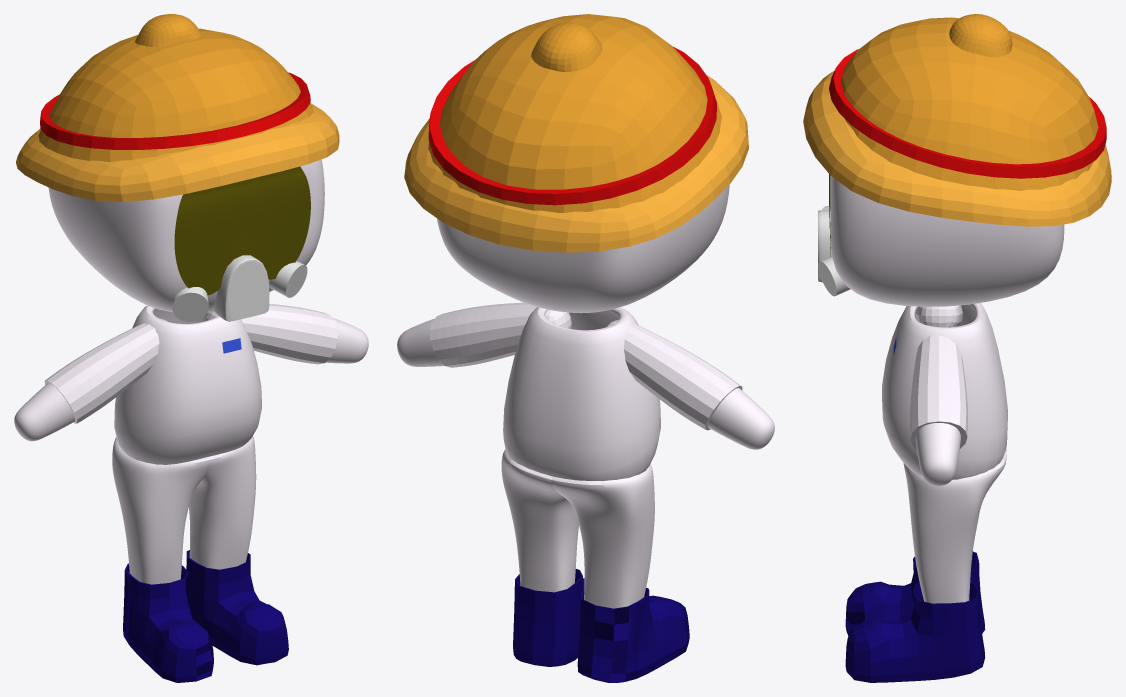
Rendered from trabalhado.fbx.
3 views of the same model, side by side, from view 1: azimuth 30°, elevation 25°; view 2: azimuth 150°, elevation 25°; view 3: azimuth 270°, elevation 25° (orthographic). The views are drawn at different scales.
Parts seen in each view (by area): view 1: Chapeu em cima.001, Corpo.006, Cube.013, Sapato.005, Chapeu lado.001, Cabeca.010, Cabeca.009, Jaqueta.007, Circle.001, Bracos.007, Cube.015, Cylinder.001 (+1 smaller); view 2: Chapeu em cima.001, Corpo.006, Cube.013, Chapeu lado.001, Cabeca.009, Sapato.005, Jaqueta.007, Circle.001, Bracos.007, Chapeu em cima.002; view 3: Chapeu em cima.001, Cabeca.009, Chapeu lado.001, Sapato.005, Corpo.006, Cube.013, Jaqueta.007, Circle.001, Bracos.007, Chapeu em cima.002, Cylinder.001, Cube.015.
Part boxes in pixels (x1,y1,x2,y2): Chapeu em cima.001: [38, 28, 313, 161]; Corpo.006: [114, 305, 261, 464]; Cube.013: [112, 436, 256, 584]; Sapato.005: [123, 550, 288, 682]; Chapeu lado.001: [16, 103, 339, 201]; Cabeca.010: [174, 166, 310, 295]; Cabeca.009: [48, 159, 324, 312]; Jaqueta.007: [44, 304, 338, 423]; Circle.001: [40, 72, 310, 149]; Bracos.007: [14, 318, 368, 441]; Cube.015: [212, 255, 269, 321]; Cylinder.001: [171, 261, 307, 321]; Chapeu em cima.001: [428, 14, 721, 212]; Corpo.006: [503, 307, 660, 481]; Cube.013: [501, 449, 654, 608]; Chapeu lado.001: [404, 75, 748, 252]; Cabeca.009: [437, 185, 729, 313]; Sapato.005: [513, 569, 689, 682]; Jaqueta.007: [429, 302, 742, 430]; Circle.001: [428, 47, 716, 205]; Bracos.007: [397, 318, 774, 449]; Chapeu em cima.002: [531, 22, 602, 71]; Chapeu em cima.001: [840, 17, 1098, 190]; Cabeca.009: [830, 175, 1064, 306]; Chapeu lado.001: [803, 71, 1111, 226]; Sapato.005: [845, 551, 985, 682]; Corpo.006: [882, 303, 1007, 479]; Cube.013: [903, 449, 1006, 603]; Jaqueta.007: [910, 305, 967, 449]; Circle.001: [829, 49, 1106, 178]; Bracos.007: [915, 423, 960, 486]; Chapeu em cima.002: [949, 14, 1012, 57]; Cylinder.001: [818, 206, 850, 296]; Cube.015: [818, 210, 832, 282].
Bounding box in the file's own units: 130 × 218 × 95.57.
